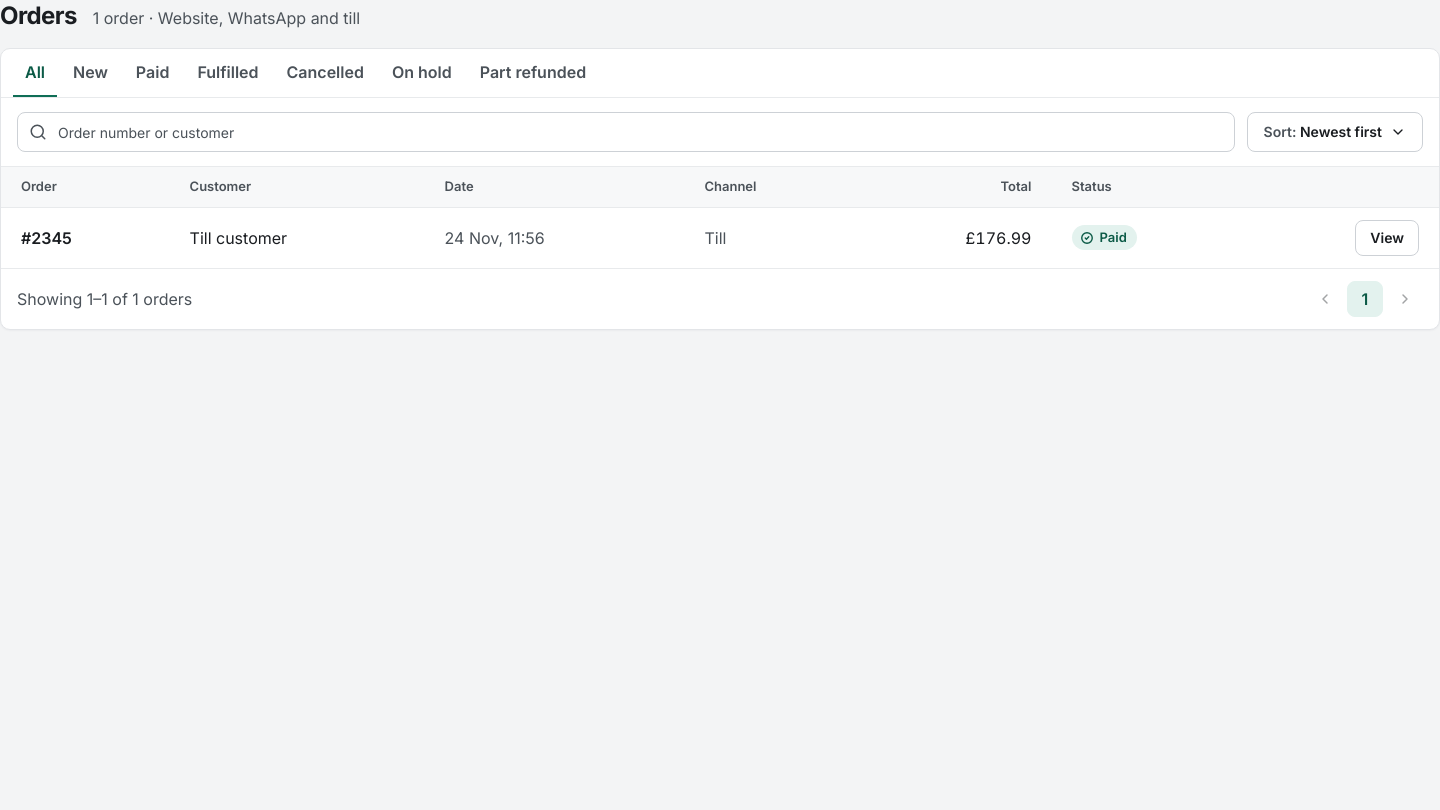
Orders page with real-world data › shows till orders without a name as "Till customer"
Expected: the row "#2345 Till customer 24 Nov, 11:56 Till £176.99 Paid View" is shown, top-left (1, 208), bottom-right (1439, 268)
What coordinates should you click on to do the following:
click the button with aria-label "View order #2345"
I would click on:
 (1387, 238)
Its box is top-left (1355, 220), bottom-right (1419, 256).
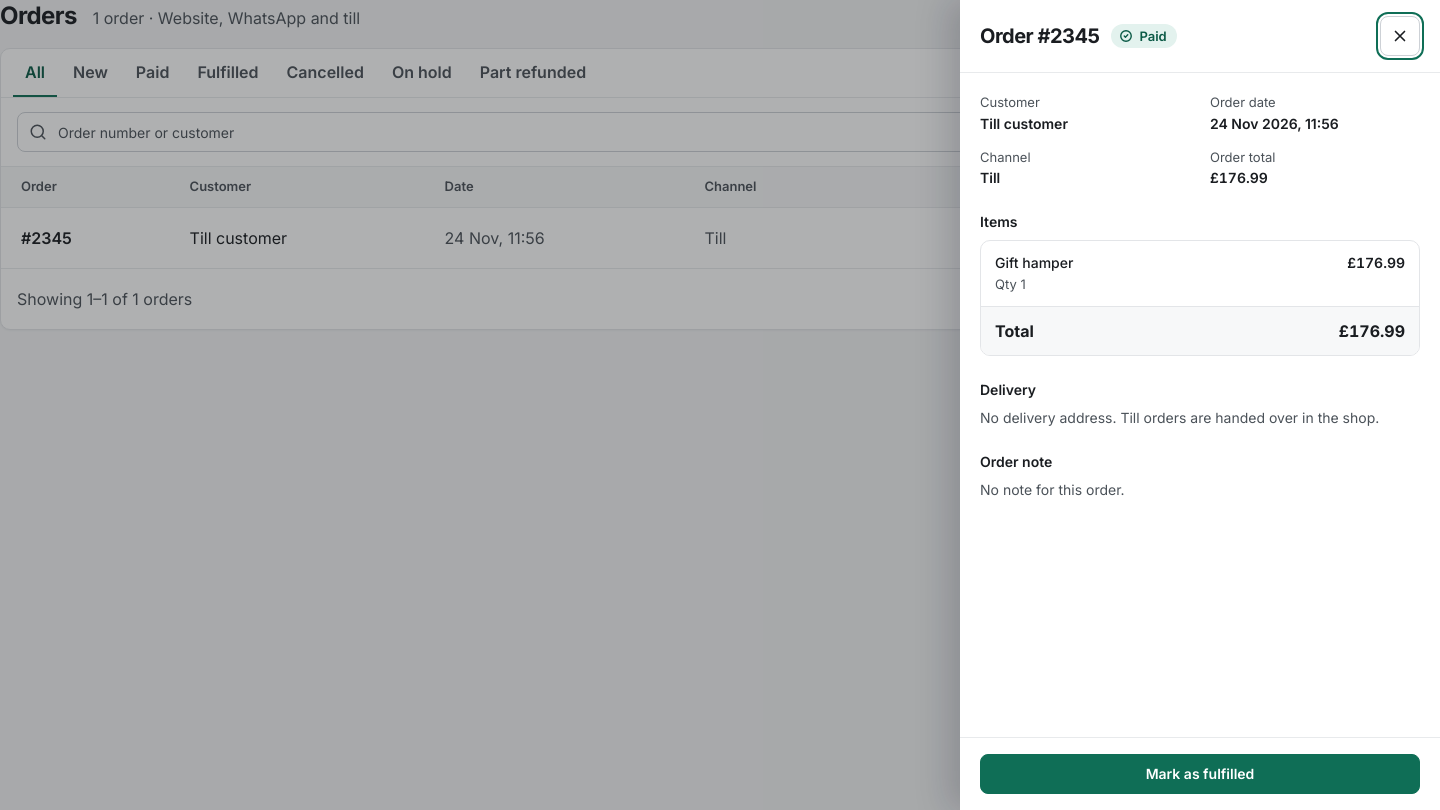
Expected: the text "Till customer" is shown, top-left (980, 115), bottom-right (1068, 132)
What coordinates should you click on to do the following:
click the button "Mark as fulfilled"
I would click on:
 (1200, 774)
Its box is top-left (980, 754), bottom-right (1420, 794).
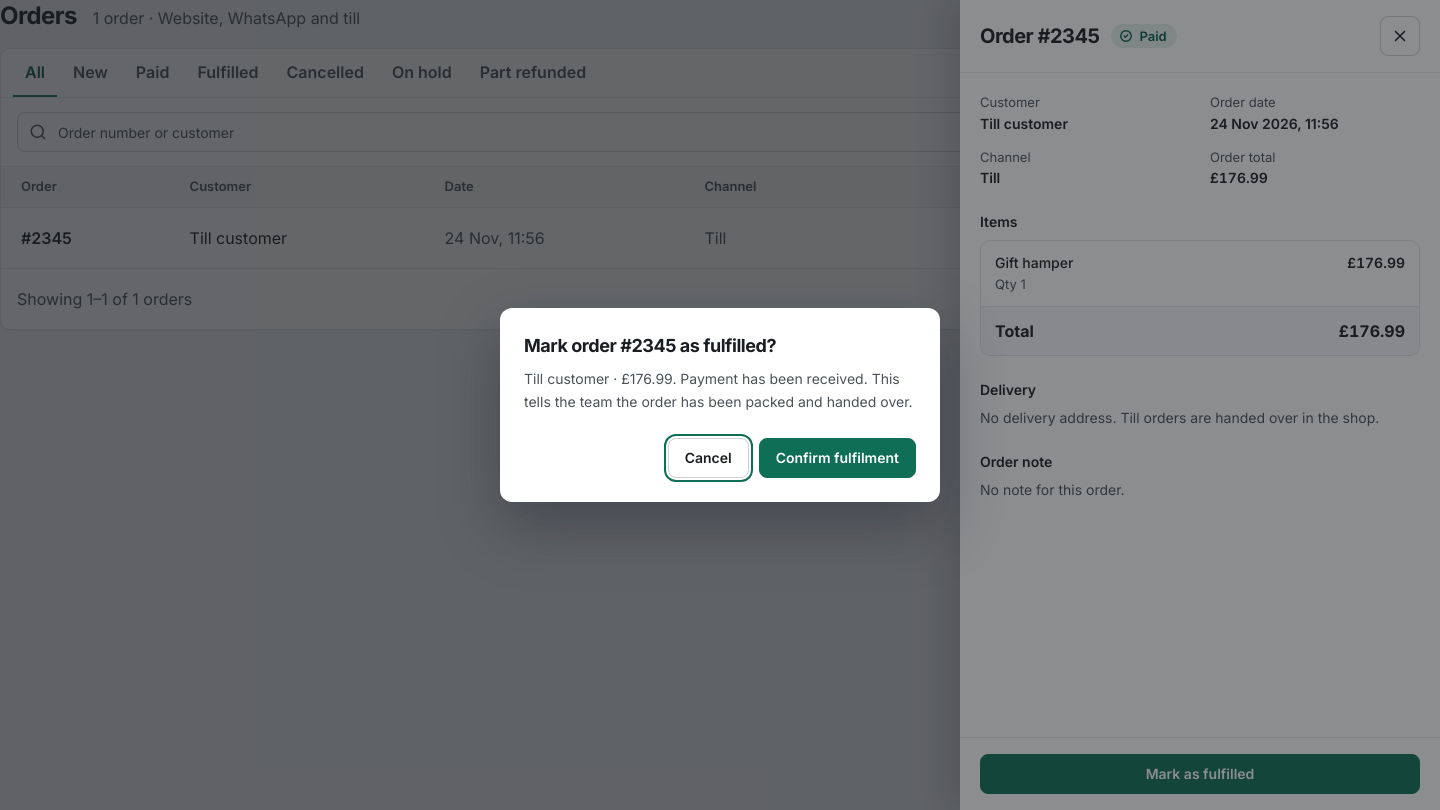
Expected: the dialog shows "Till customer · £176.99", top-left (500, 308), bottom-right (940, 502)
